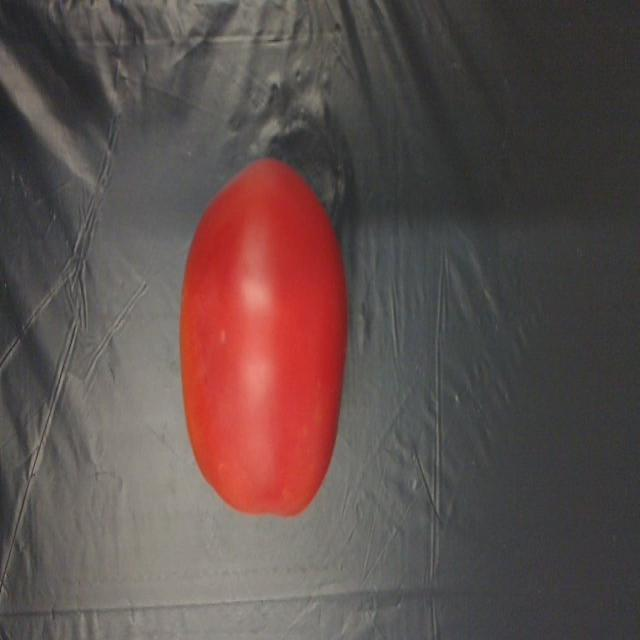kirmizi: (182, 162, 347, 514)
